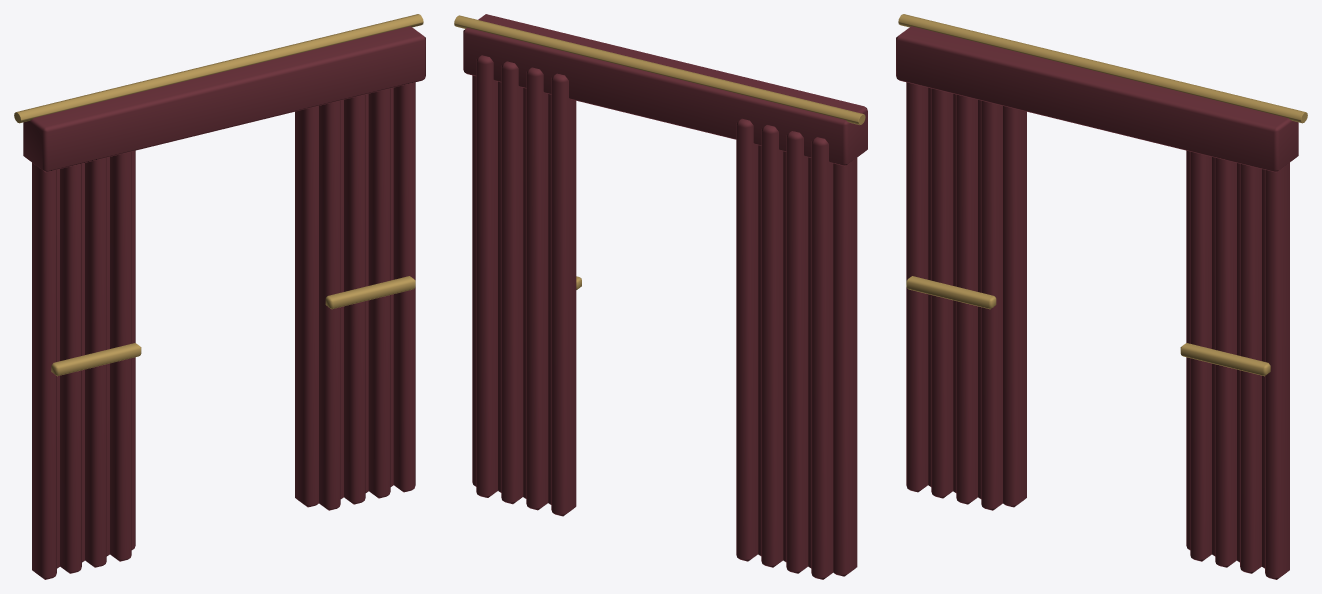
Rendered from rpg-mansion-curtain-01.glb.
3 views of the same model, side by side, from view 1: azimuth 30°, elevation 25°; view 2: azimuth 150°, elevation 25°; view 3: azimuth 330°, elevation 25° (orthographic).
Visible parts, largest first — view 1: rpg-mansion-curtain-01; view 2: rpg-mansion-curtain-01; view 3: rpg-mansion-curtain-01.
Boxes of the visible parts, bbox=[...] form: rpg-mansion-curtain-01: bbox=[14, 14, 425, 579]; rpg-mansion-curtain-01: bbox=[454, 14, 867, 579]; rpg-mansion-curtain-01: bbox=[896, 14, 1307, 579].
Bounding box in the file's own units: 2.15 × 2.37 × 0.27.
